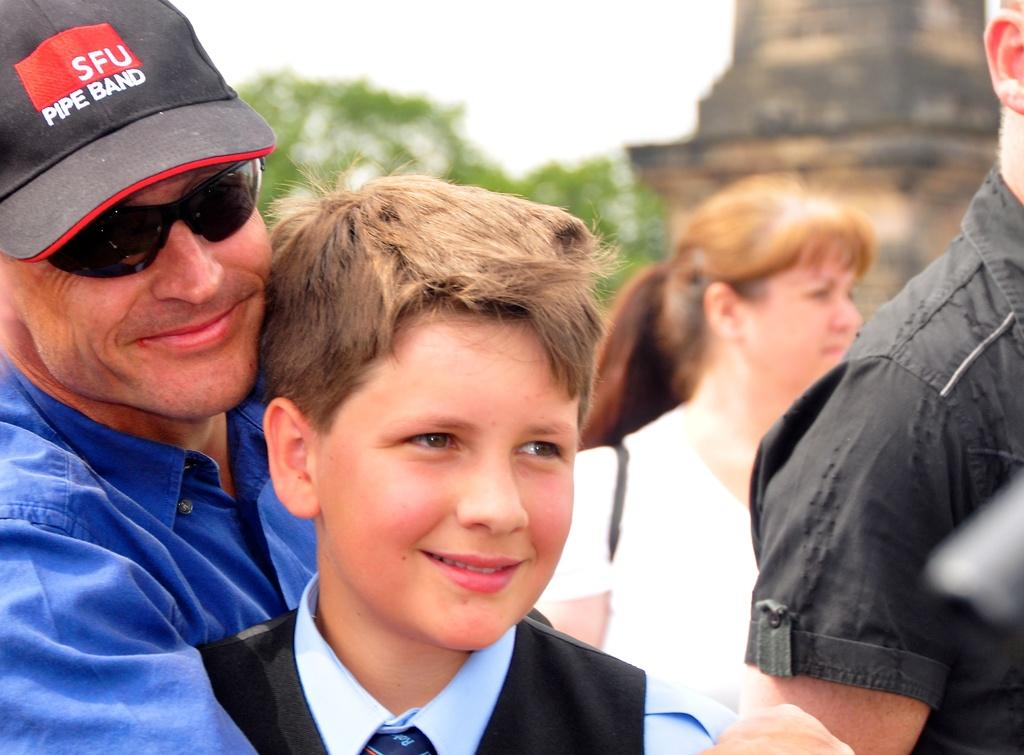Hat: (0, 0, 275, 294)
